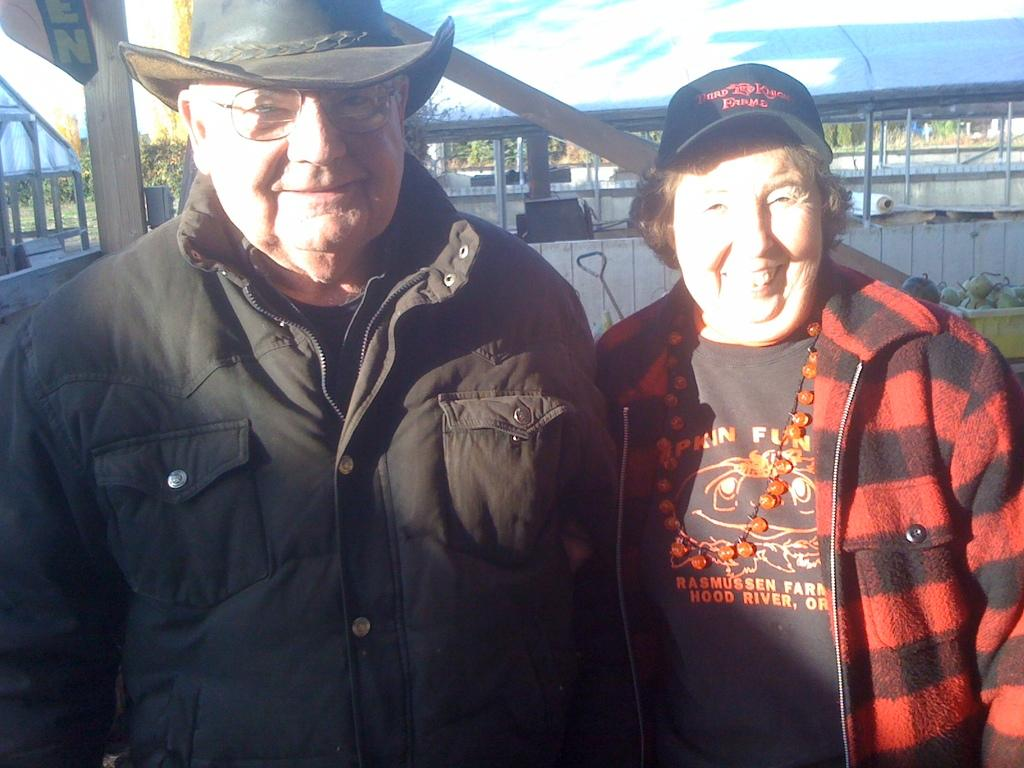Hat: (118, 0, 453, 122), (652, 57, 834, 161)
